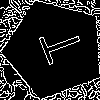T: (29, 24, 85, 69)
